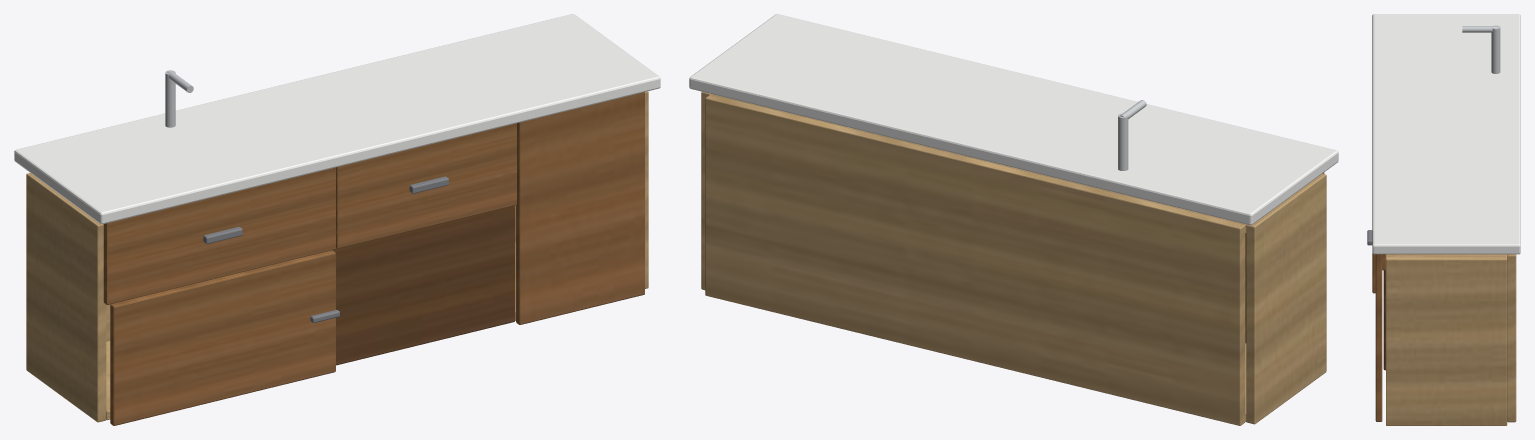
Rendered from counter.glb.
3 views of the same model, side by side, from view 1: azimuth 30°, elevation 25°; view 2: azimuth 150°, elevation 25°; view 3: azimuth 270°, elevation 25° (orthographic). The views are drawn at different scales.
Parts seen in each view (by area): view 1: top.001, part_cabDoor__counter, front_right, openbox, part_drawer1__counter, ct_body_left, part_drawer2__counter, ct_body_right; view 2: ct_body_back, top.001, ct_body_left, ct_body_right, ct_body_top, faucet; view 3: top.001, ct_body_right, ct_body_back, front_right, faucet, openbox, part_cabDoor__counter, ct_body_top, spout.
Boxes of the visible parts, <box> form: top.001: <box>14,14,660,224</box>; part_cabDoor__counter: <box>110,250,339,425</box>; front_right: <box>516,92,644,324</box>; openbox: <box>333,206,515,365</box>; part_drawer1__counter: <box>103,167,335,304</box>; ct_body_left: <box>26,173,106,422</box>; part_drawer2__counter: <box>336,123,516,248</box>; ct_body_right: <box>645,91,648,288</box>; ct_body_back: <box>705,94,1245,425</box>; top.001: <box>689,14,1338,225</box>; ct_body_left: <box>1246,173,1326,424</box>; ct_body_right: <box>701,91,710,290</box>; ct_body_top: <box>711,94,1246,233</box>; faucet: <box>1118,113,1128,170</box>; top.001: <box>1372,14,1520,254</box>; ct_body_right: <box>1386,256,1507,425</box>; ct_body_back: <box>1507,254,1516,422</box>; front_right: <box>1375,254,1382,421</box>; faucet: <box>1491,25,1500,73</box>; openbox: <box>1383,270,1385,370</box>; part_cabDoor__counter: <box>1367,230,1375,293</box>; ct_body_top: <box>1386,254,1507,256</box>; spout: <box>1462,26,1498,32</box>.
Size of the model in its own units: 2.44 by 1.13 by 0.6825.
Materials: 8 (4 with a texture image).
